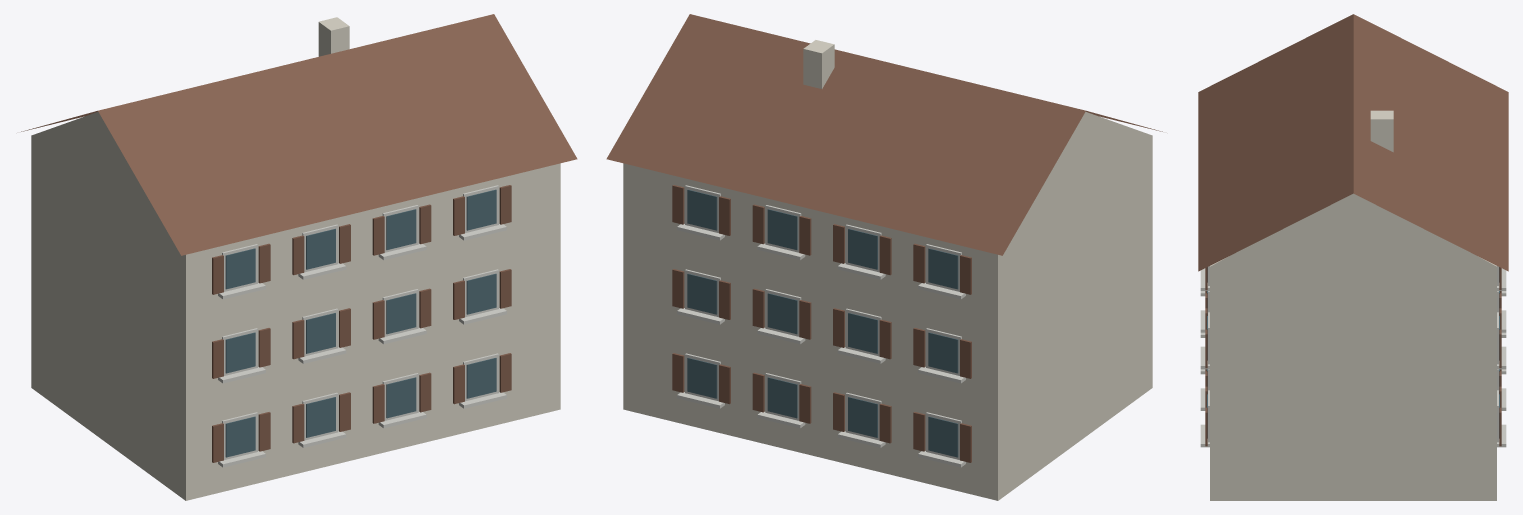
File: House_1_LOD0.glb
The picture shows the model from 3 angles, left to right: view 1: azimuth 30°, elevation 25°; view 2: azimuth 150°, elevation 25°; view 3: azimuth 270°, elevation 25°; orthographic projection. The views are drawn at different scales.
Visible parts, largest first — view 1: House_1_LOD0; view 2: House_1_LOD0; view 3: House_1_LOD0.
Part boxes in pixels (left/top/right/bottom): House_1_LOD0: left=21, top=14, right=577, bottom=500; House_1_LOD0: left=606, top=14, right=1162, bottom=500; House_1_LOD0: left=1198, top=14, right=1508, bottom=500.
Size of the model in its own units: 14.8 by 12.5 by 10.8.
